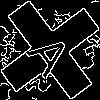A: (25, 25, 82, 81)
